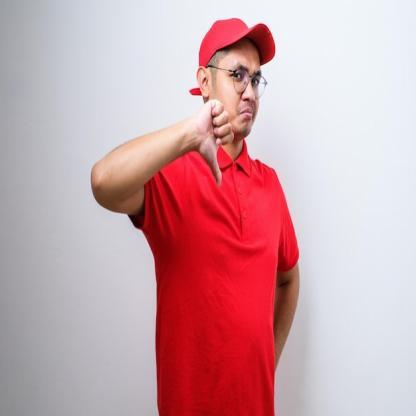thumb_down: (192, 92, 235, 190)
